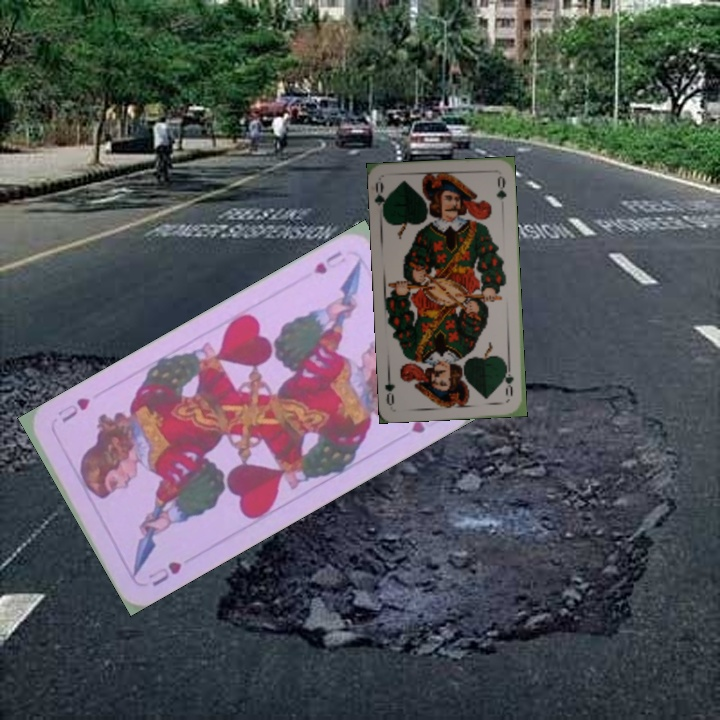GO: (371, 178, 391, 218), (501, 360, 516, 399)
HU: (144, 557, 185, 589), (309, 247, 349, 277)
